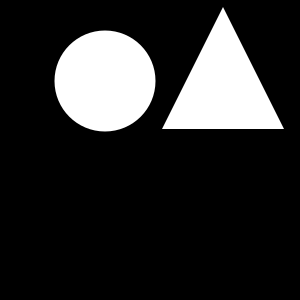rectangle: (54, 31, 156, 132)
triangle: (162, 7, 284, 129)
